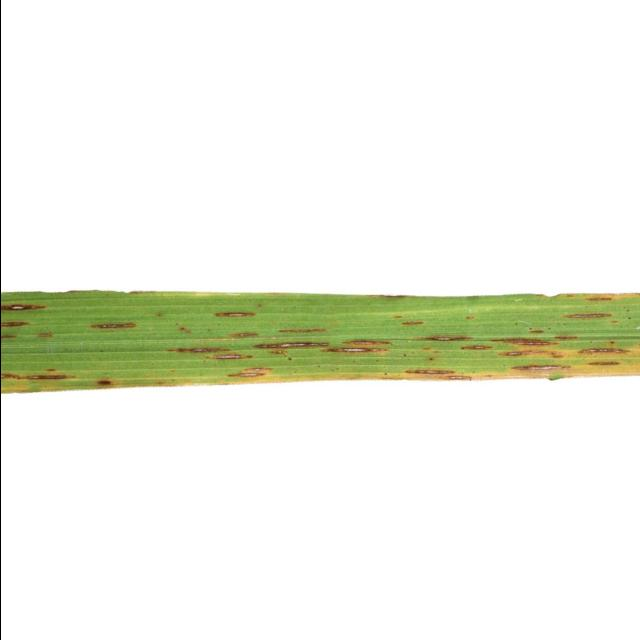Narrow brown: (0, 248, 640, 421)
